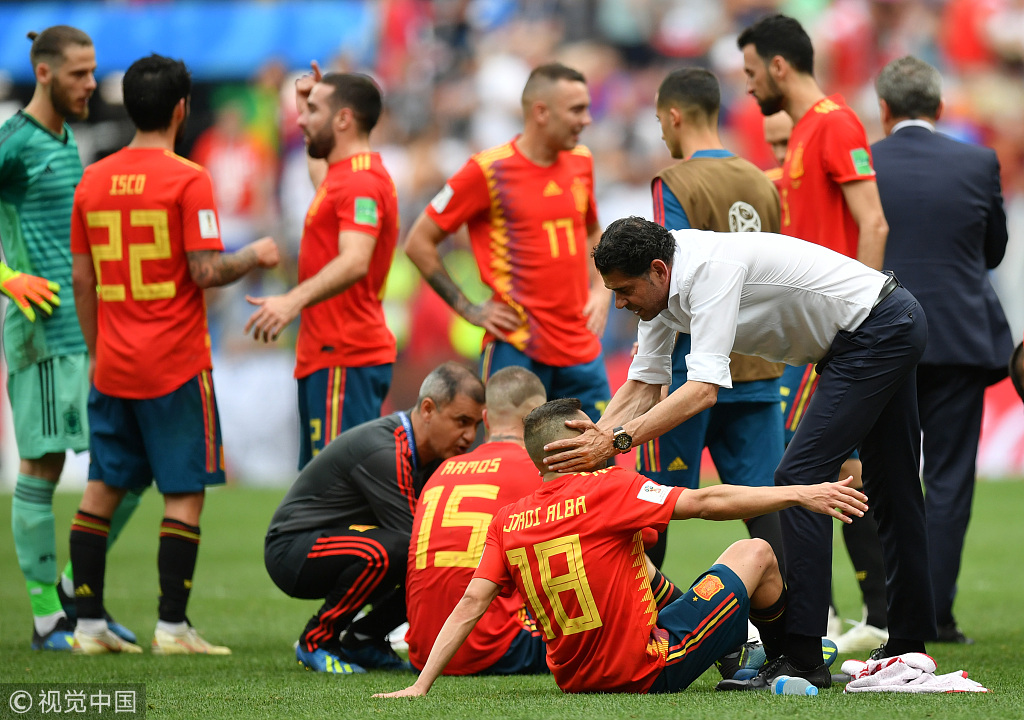10+: (2, 3, 1007, 706)
